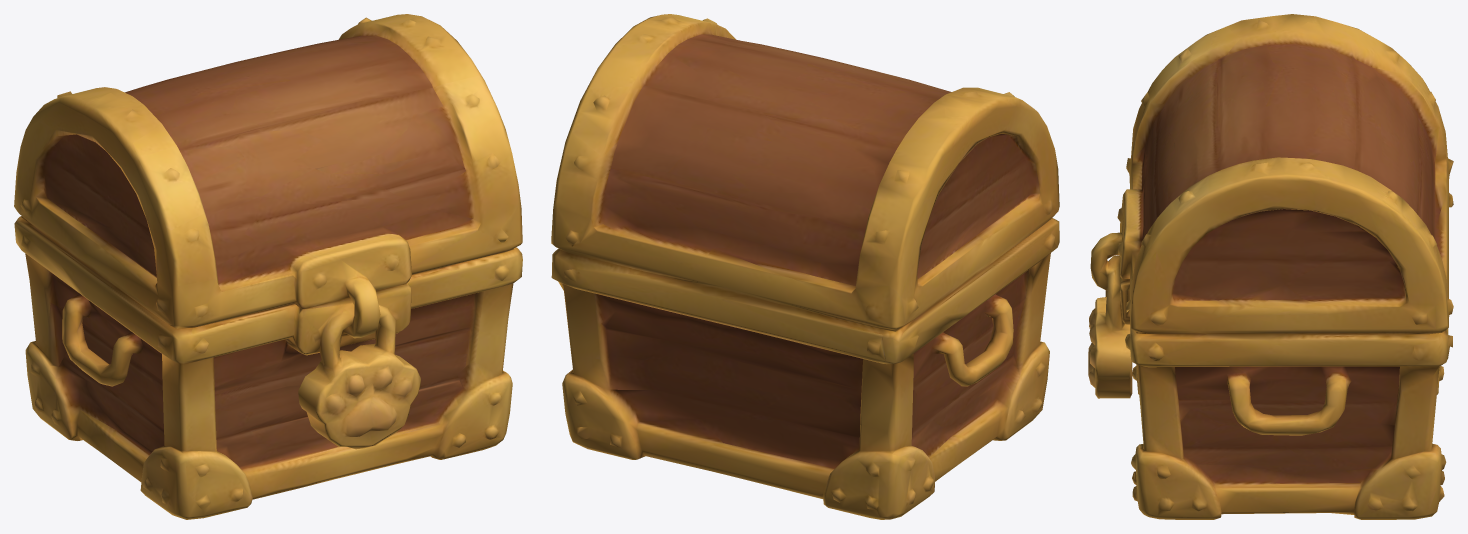
File: prop_chest.glb
The picture shows the model from 3 angles, left to right: view 1: azimuth 30°, elevation 25°; view 2: azimuth 150°, elevation 25°; view 3: azimuth 270°, elevation 25°; orthographic projection. The views are drawn at different scales.
Parts seen in each view (by area): view 1: tripo_node_d1de9354-4030-49eb-a1fc-2d3d6bf58b24; view 2: tripo_node_d1de9354-4030-49eb-a1fc-2d3d6bf58b24; view 3: tripo_node_d1de9354-4030-49eb-a1fc-2d3d6bf58b24.
Part boxes in pixels (x1,y1,x2,y2): tripo_node_d1de9354-4030-49eb-a1fc-2d3d6bf58b24: (14,14,522,519); tripo_node_d1de9354-4030-49eb-a1fc-2d3d6bf58b24: (551,14,1059,519); tripo_node_d1de9354-4030-49eb-a1fc-2d3d6bf58b24: (1088,14,1453,519).
Bounding box in the file's own units: 1 × 0.9574 × 0.8946.
1 material, 1 textured.
